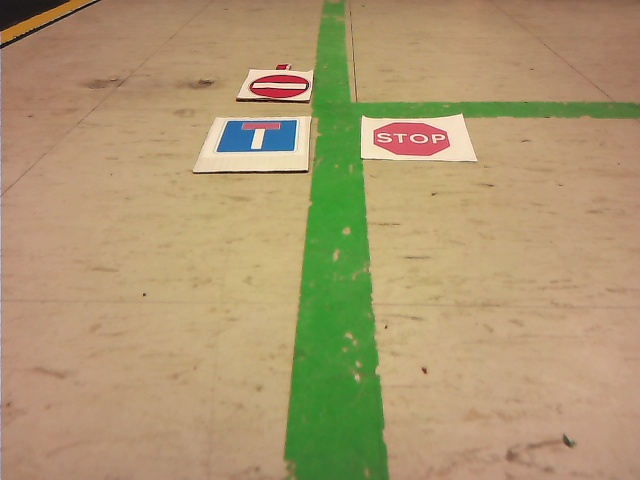DEAD END: (216, 120, 297, 152)
NO ENTRY: (249, 71, 310, 98)
STOP: (374, 122, 449, 157)
